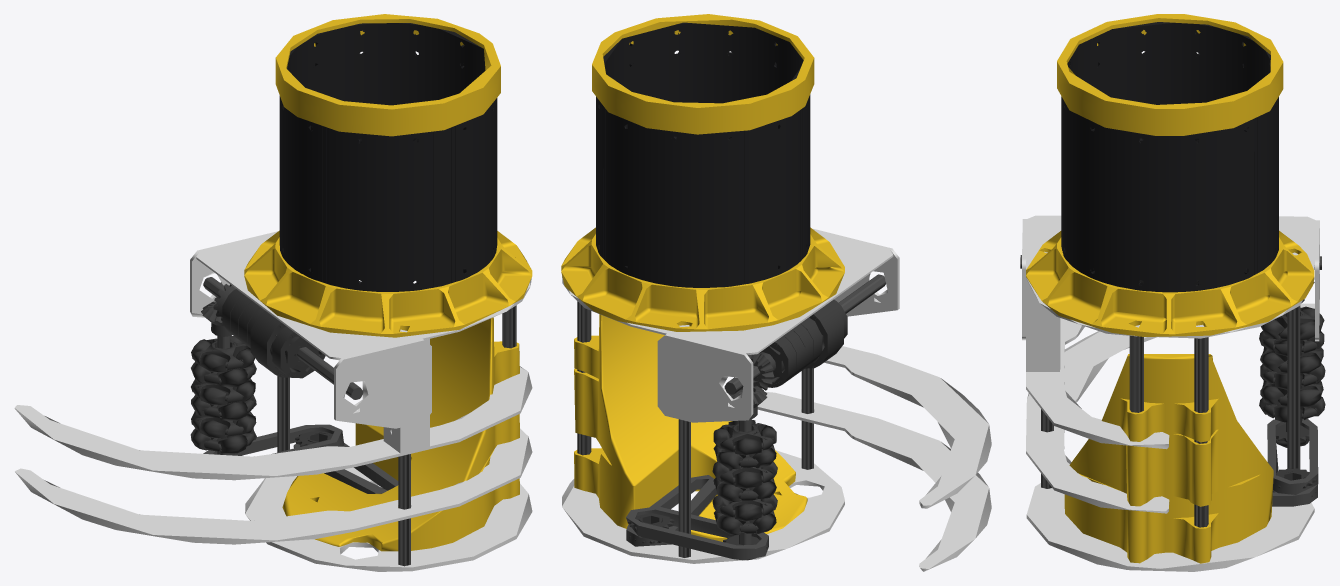
File: 604-rotor.glb
3 renders of one model, left to right at view 1: azimuth 30°, elevation 25°; view 2: azimuth 150°, elevation 25°; view 3: azimuth 270°, elevation 25°, orthographic.
Visible parts, largest first — view 1: WCP Lightened Hex - Not Configured, L: 7p4375 in, Top Plate, Ramp Bottom, 16t Aluminum Double Sprocket (#25, 1/2" Hex Bore), 15t Steel Bevel Gear (12 DP, 3/8" Hex Bore); view 2: WCP Lightened Hex - Not Configured, L: 7p4375 in, Ramp Bottom, Top Plate, 16t Aluminum Double Sprocket (#25, 1/2" Hex Bore), 15t Steel Bevel Gear (12 DP, 3/8" Hex Bore); view 3: WCP Lightened Hex - Not Configured, L: 7p4375 in, Ramp Bottom, Top Plate, 16t Aluminum Double Sprocket (#25, 1/2" Hex Bore).
Boxes of the visible parts, x1,y1,x2,y2 form: WCP Lightened Hex - Not Configured, L: 7p4375 in: (203,23,516,566); Top Plate: (14,231,532,571); Ramp Bottom: (244,14,532,551); 16t Aluminum Double Sprocket (#25, 1/2" Hex Bore): (190,289,342,455); 15t Steel Bevel Gear (12 DP, 3/8" Hex Bore): (201,284,235,336); WCP Lightened Hex - Not Configured, L: 7p4375 in: (577,22,885,560); Ramp Bottom: (561,14,844,541); Top Plate: (562,229,991,571); 16t Aluminum Double Sprocket (#25, 1/2" Hex Bore): (627,299,847,560); 15t Steel Bevel Gear (12 DP, 3/8" Hex Bore): (729,352,775,419); WCP Lightened Hex - Not Configured, L: 7p4375 in: (1020,22,1321,527); Ramp Bottom: (1026,14,1314,563); Top Plate: (1022,215,1319,571); 16t Aluminum Double Sprocket (#25, 1/2" Hex Bore): (1140,280,1325,496).
Bounding box in the file's own units: 0.3737 × 0.3715 × 0.2281.
